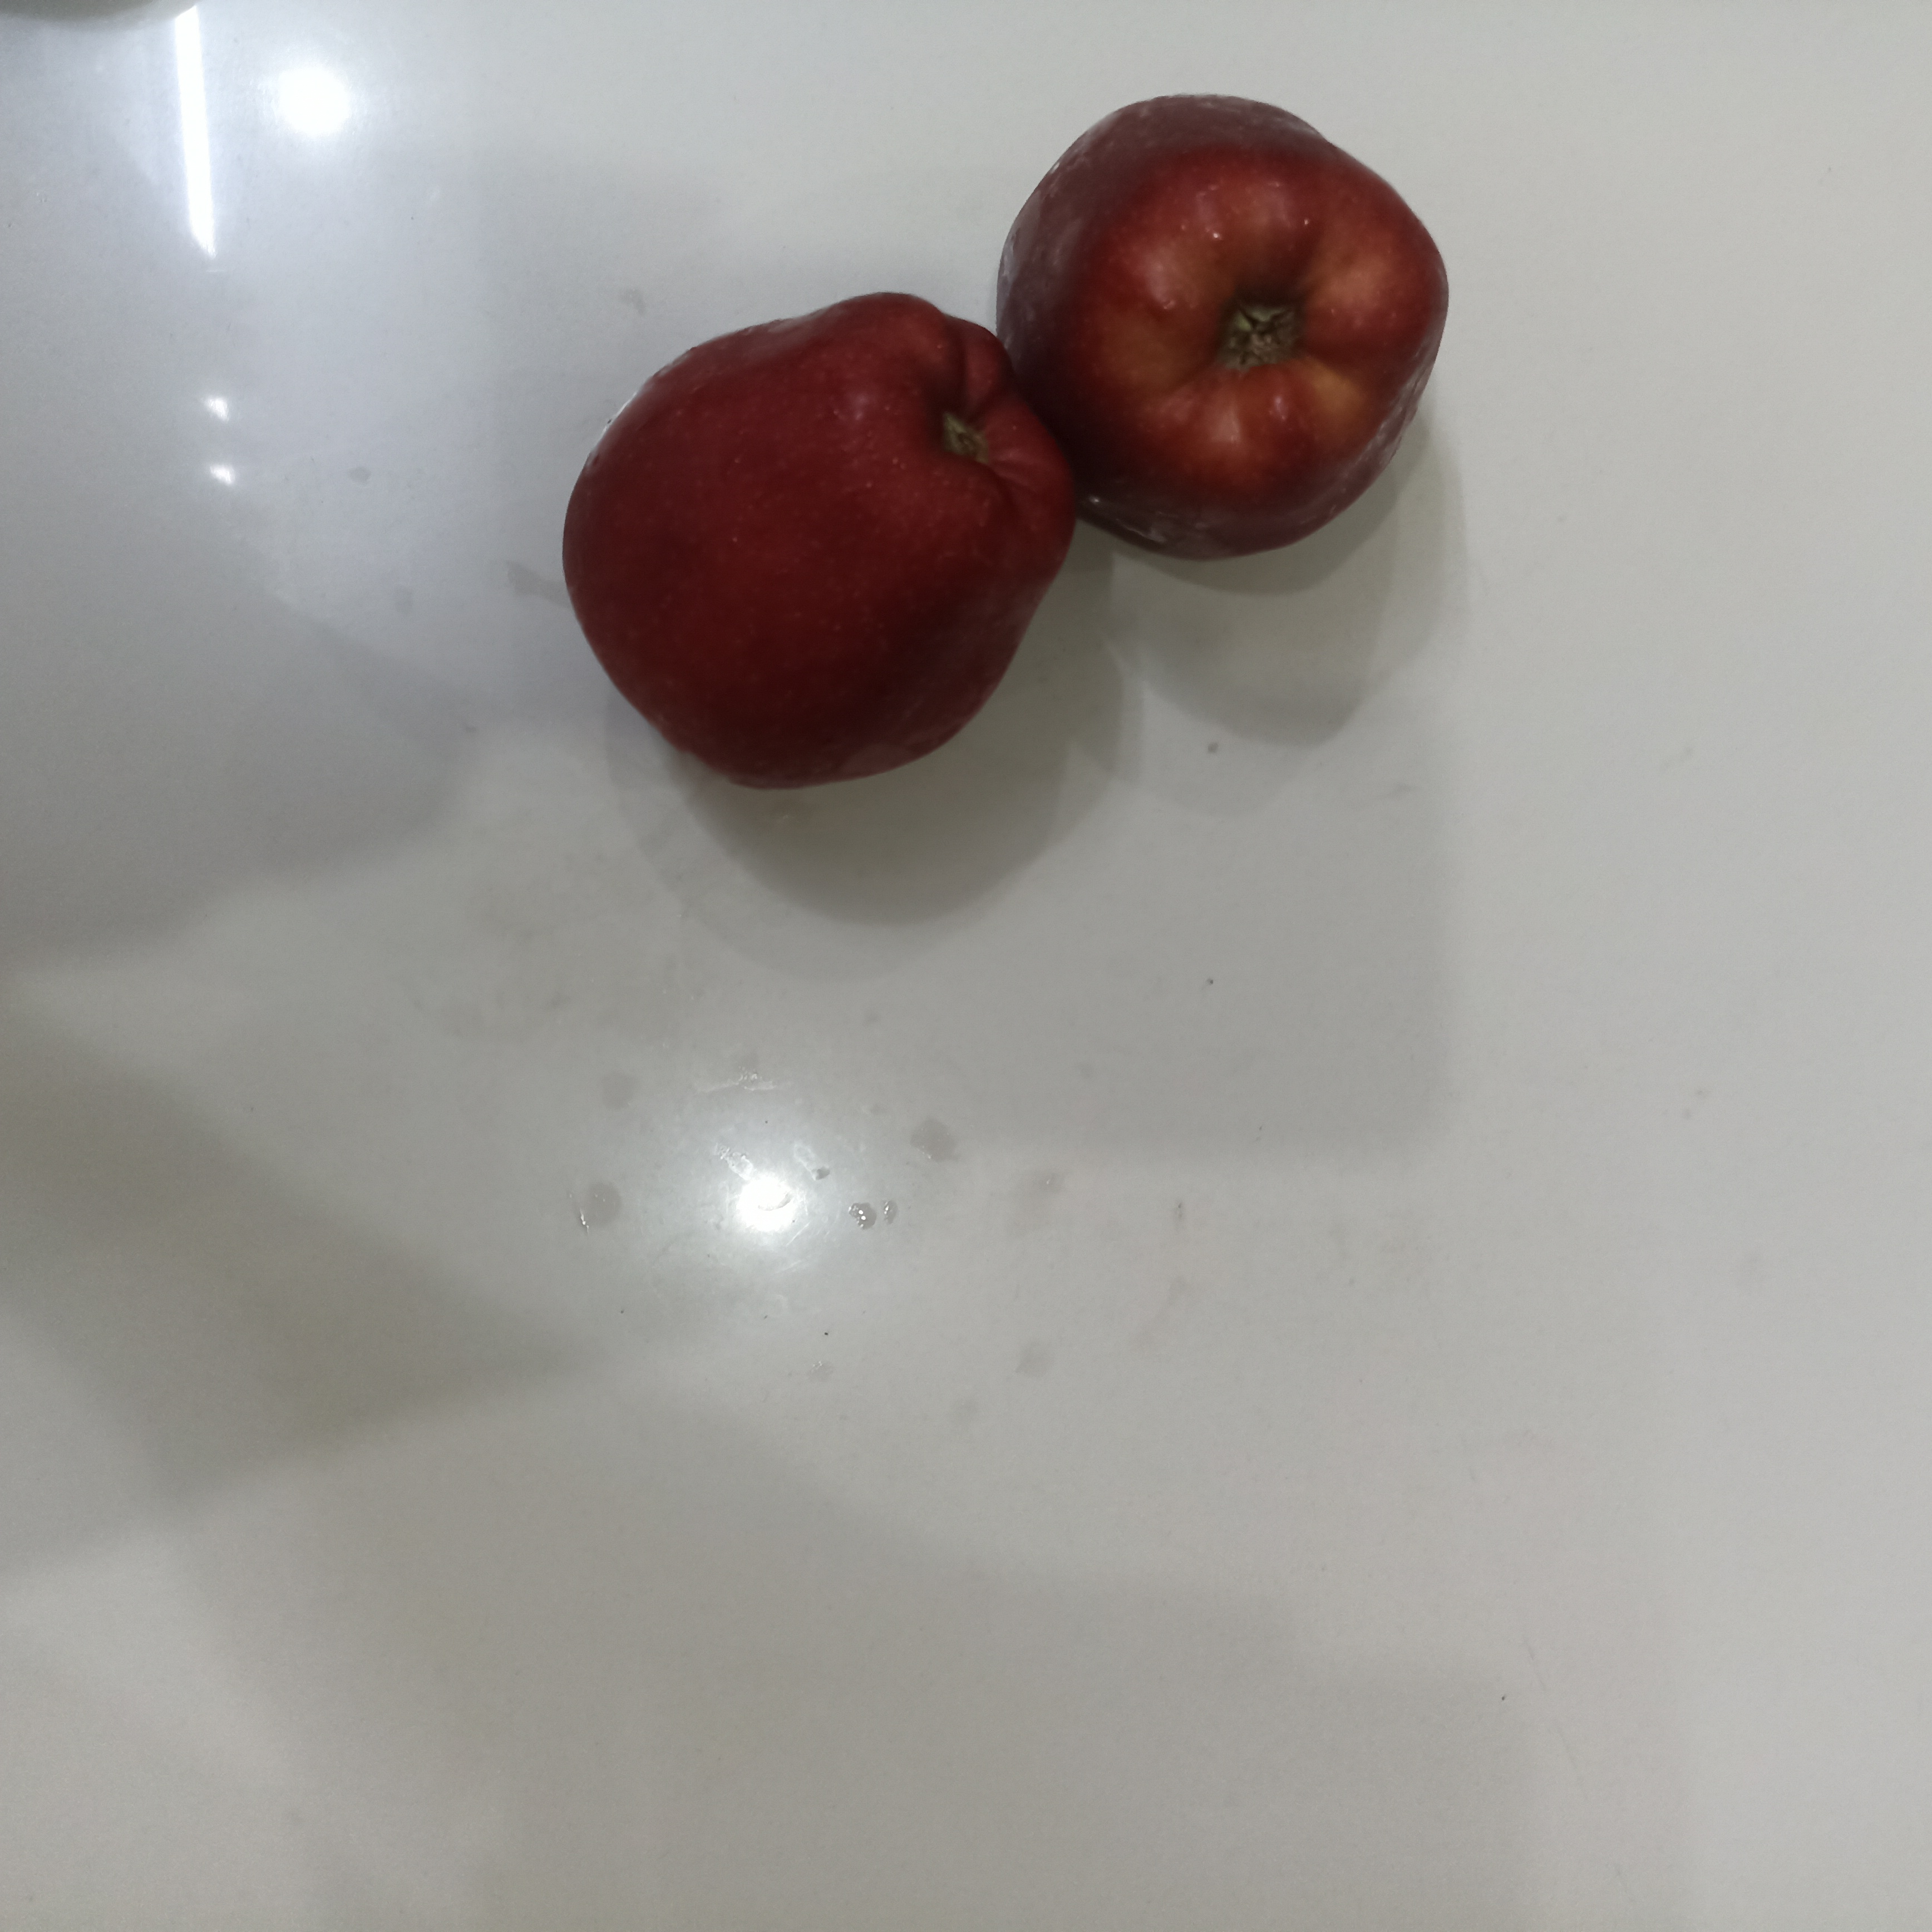Tao do: (561, 290, 1085, 789), (994, 92, 1451, 566)
